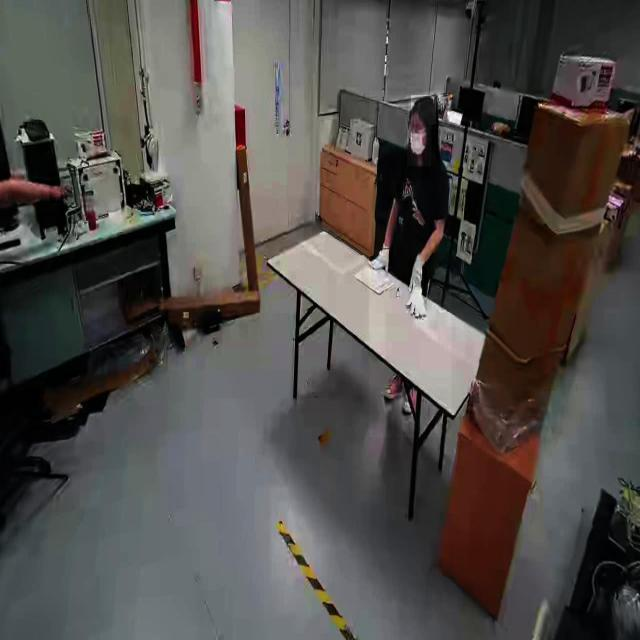face_mask: (407, 125, 431, 167)
hand_glove: (408, 260, 428, 314), (371, 233, 393, 282)
hand_noglove: (49, 180, 73, 204)
head_nohelmet: (411, 95, 437, 125)
person: (369, 91, 452, 438)
